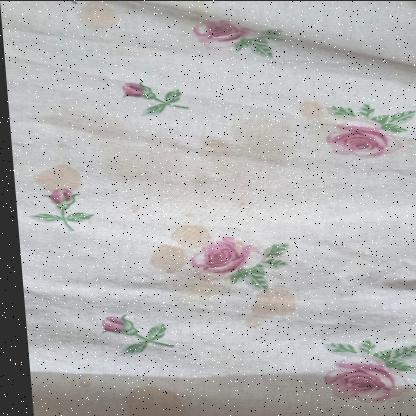spot: (222, 108, 298, 168), (131, 226, 216, 274), (229, 278, 292, 326), (99, 382, 190, 412), (182, 135, 230, 191), (258, 94, 332, 130), (29, 158, 90, 201), (69, 1, 127, 31), (57, 362, 101, 391)
